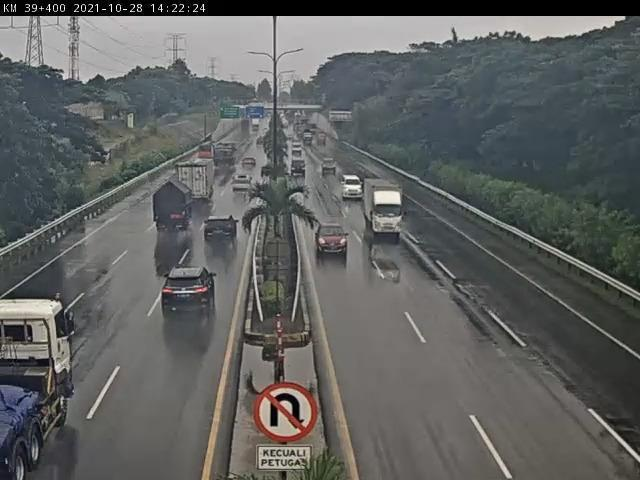car: (162, 264, 218, 316), (315, 222, 351, 261), (203, 214, 241, 244), (231, 175, 256, 200), (341, 175, 365, 199), (321, 157, 339, 175), (291, 159, 307, 177)
truck: (1, 296, 77, 480), (364, 176, 407, 239), (151, 182, 195, 234), (171, 159, 216, 208)
